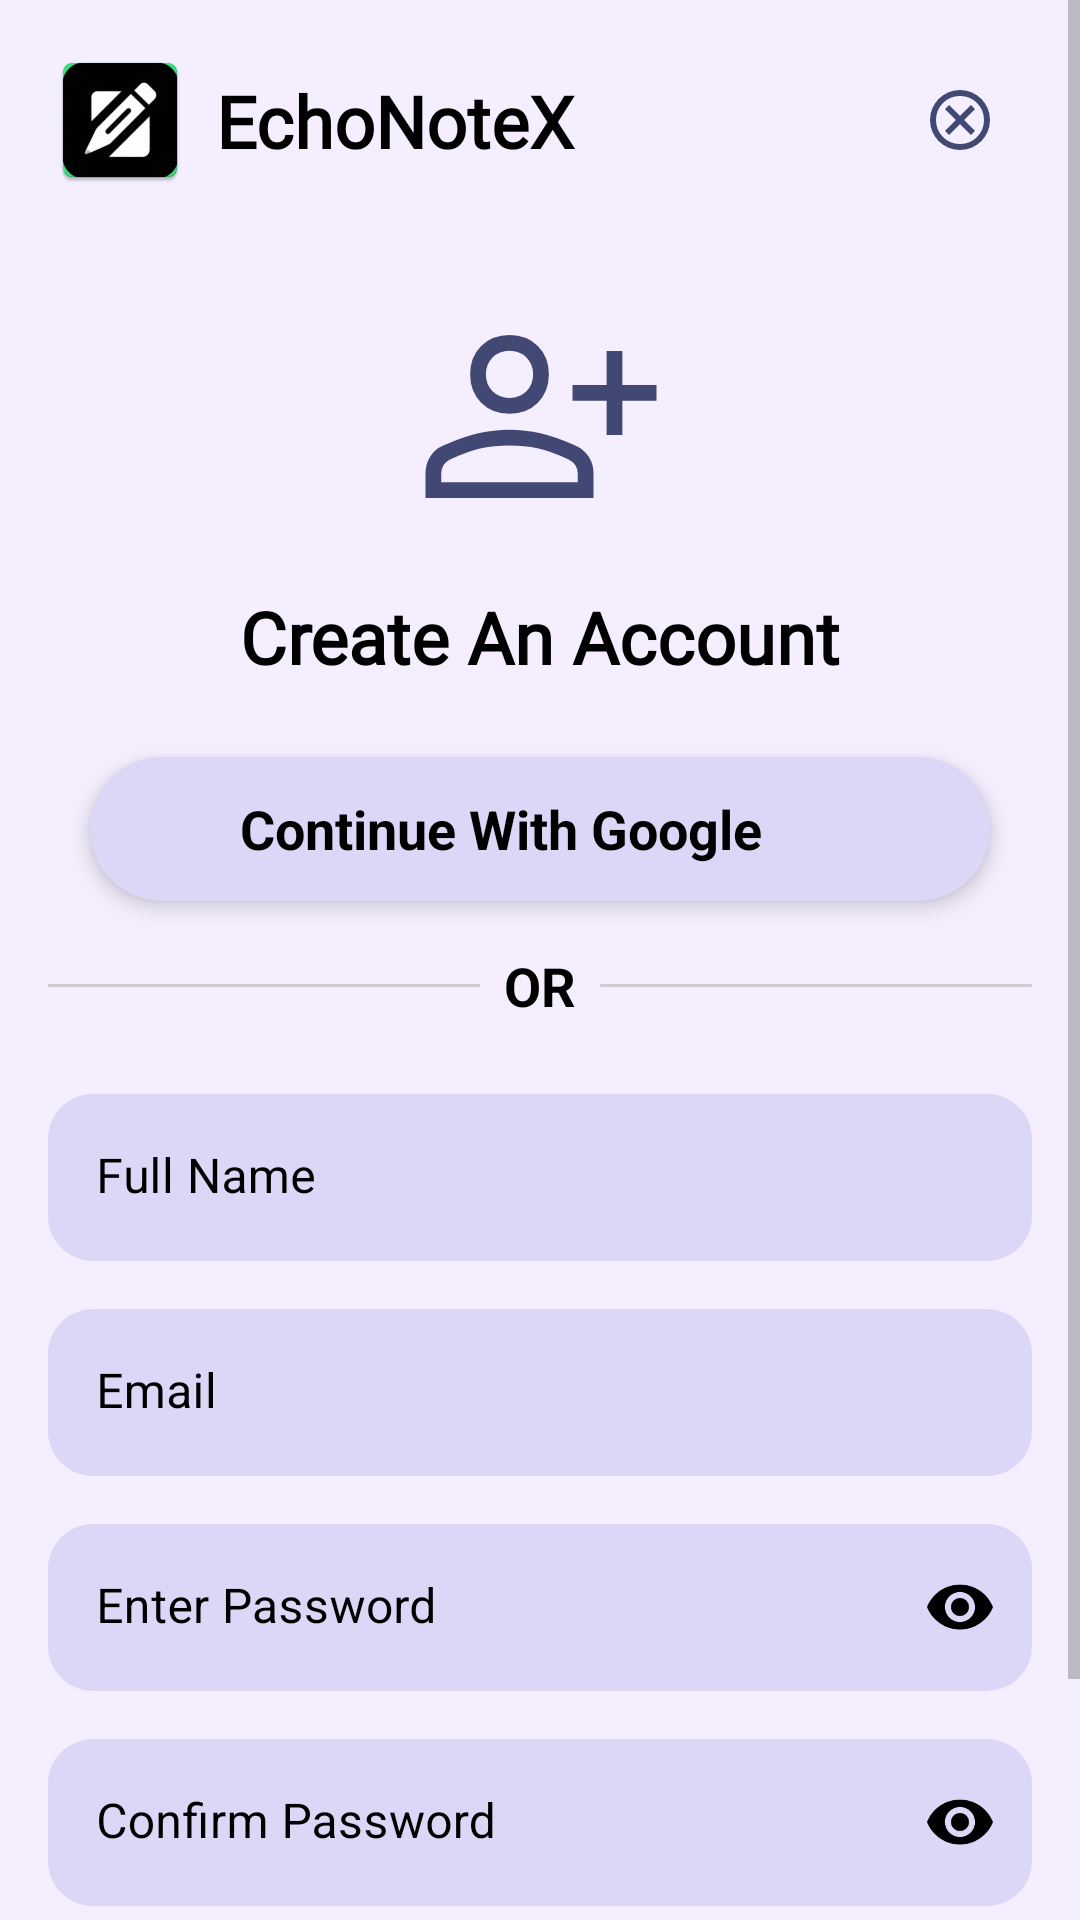

Where icons sit on this 1080px x 1920px app screen, as bbox=[x1, y1, x2, y2]:
Close Button: bbox=[930, 90, 990, 150]
Register Icon: bbox=[425, 335, 657, 498]
